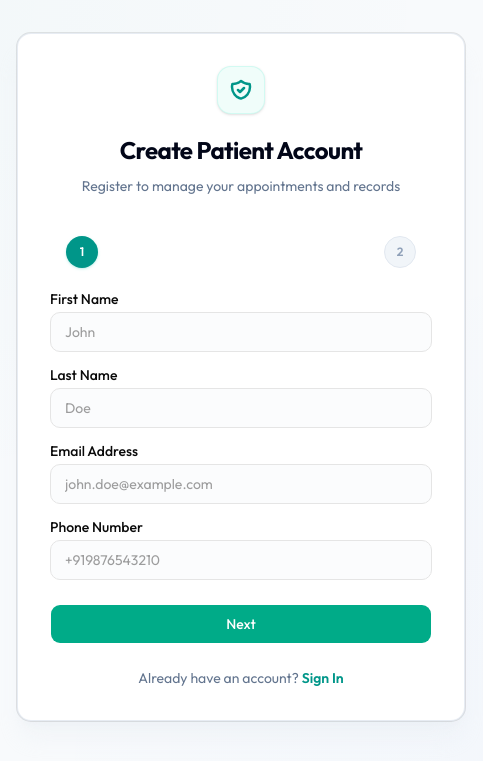
Test: RegisterPage › shows validation errors on Step 1 if values are invalid
Click the button "Next" at (241,624), box [50,604,432,644]
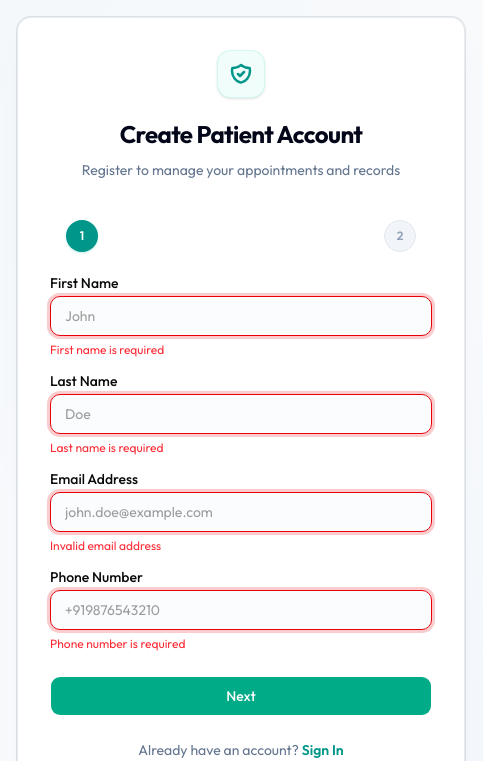
Check: the text "First name is required" is shown, box [50,342,164,357]
Check: the text "Last name is required" is shown, box [50,440,164,455]
Check: the text "Invalid email address" is shown, box [50,538,161,553]
